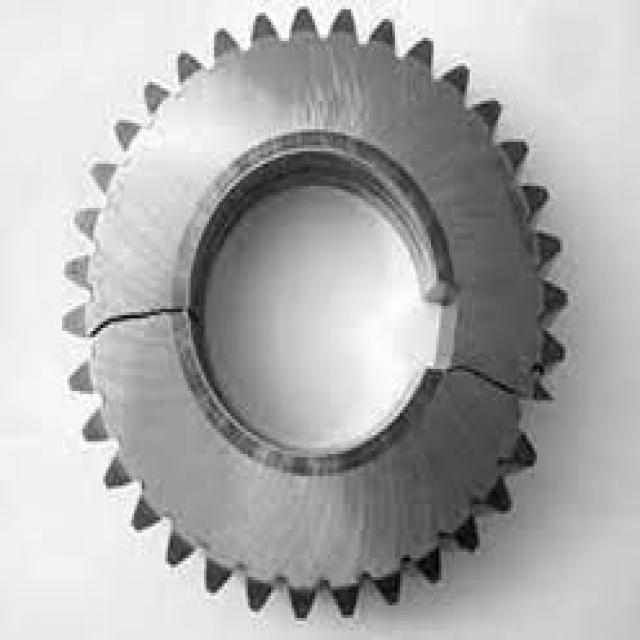Fault-Exist: (419, 310, 565, 487), (81, 283, 185, 363)
No Fault: (124, 4, 366, 77)
